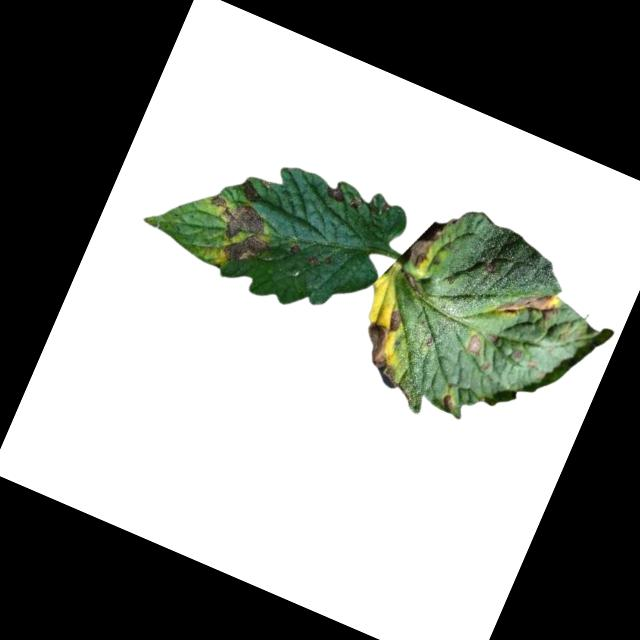Early_blight: (189, 189, 281, 274), (348, 300, 426, 390), (490, 271, 567, 336), (396, 209, 445, 275), (463, 330, 487, 359), (324, 181, 350, 205), (440, 392, 461, 415), (287, 241, 302, 255), (304, 250, 317, 264)
